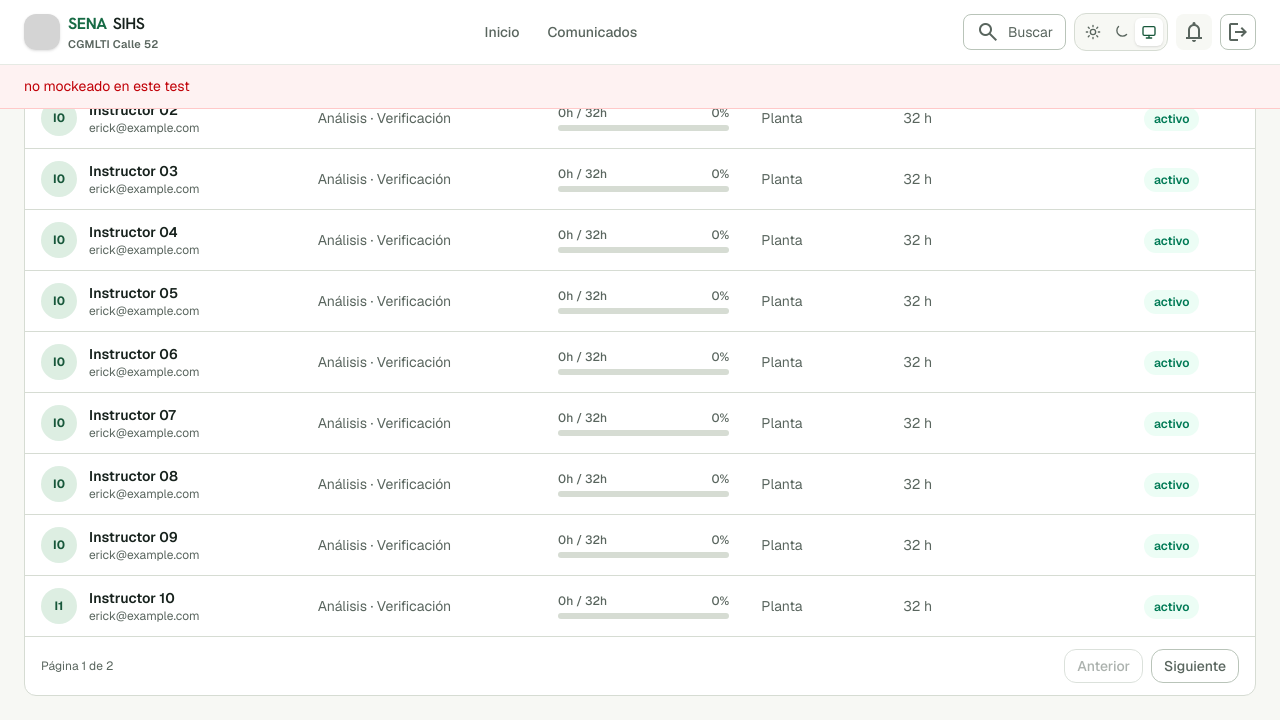
Test case: Instructores › con más de 10 instructores, pagina y "Siguiente" avanza a la página 2
(page scrolled)
Check: the text "Instructor 01" is shown, box [89,40,175,58]
Check: the text "Página 1 de 2" is shown, box [41,658,113,674]
Click the button "Siguiente".
click(1195, 666)  # box [1151,649,1239,683]
(page scrolled)
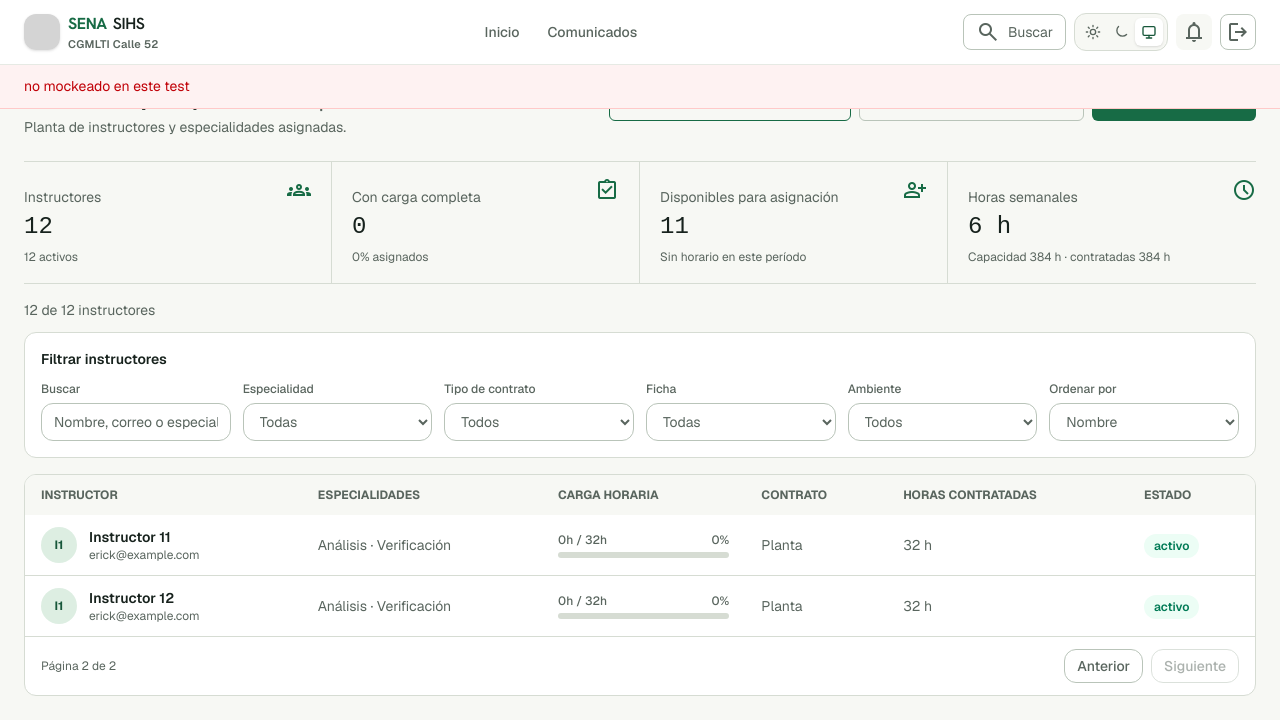
Check: the text "Página 2 de 2" is shown, box [41,658,116,674]
Check: the text "Instructor 11" is shown, box [89,528,171,546]
Check: the button "Siguiente" is disabled, box [1151,649,1239,683]
